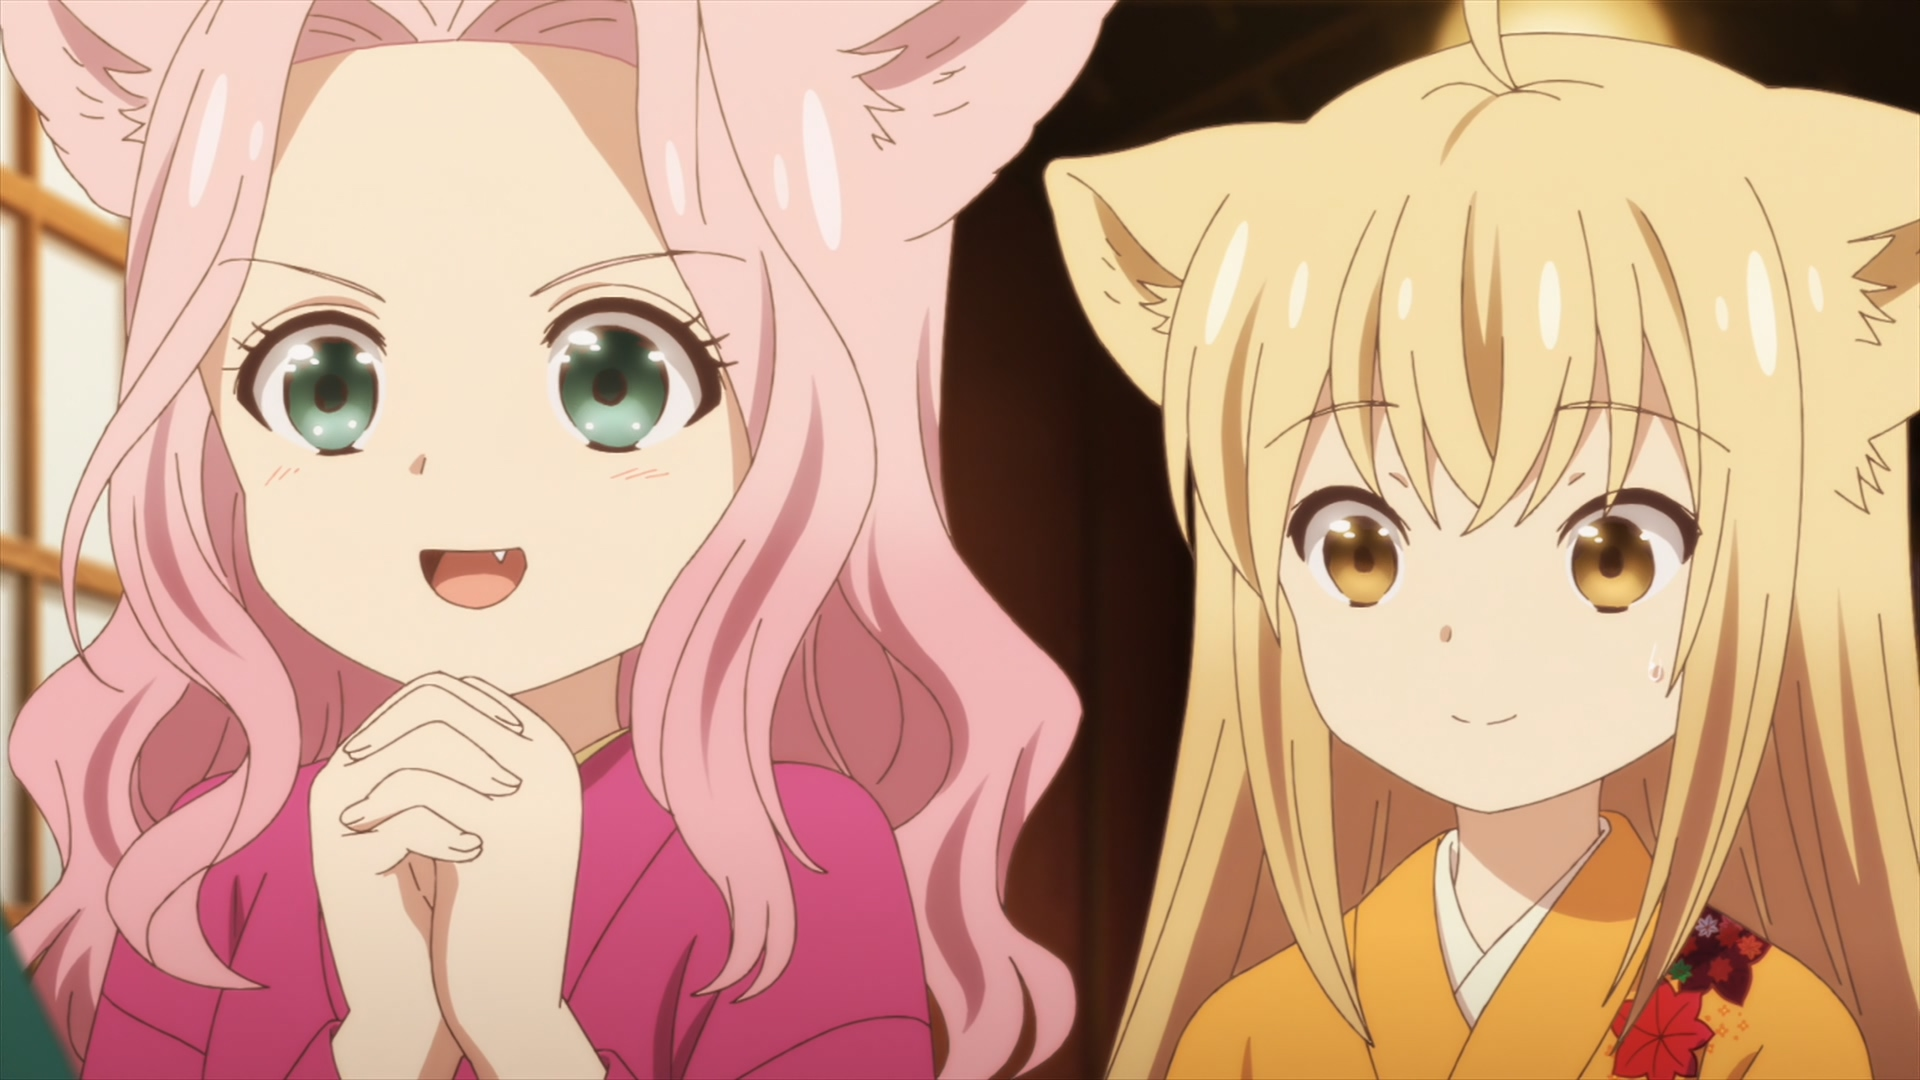柚: (1042, 1, 1920, 1080)
莲: (1, 1, 1124, 1080)
